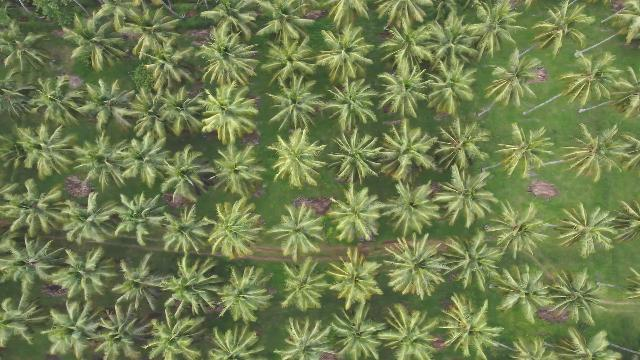trees: (559, 123, 640, 183), (379, 235, 450, 301), (433, 296, 505, 360), (433, 232, 507, 294), (62, 12, 134, 74), (481, 201, 555, 261), (537, 268, 611, 327), (9, 124, 84, 182), (199, 25, 264, 91), (432, 164, 499, 228), (549, 203, 625, 259), (157, 258, 226, 319), (556, 52, 628, 110), (482, 48, 547, 110), (376, 304, 447, 360), (199, 86, 264, 147), (71, 132, 139, 190), (55, 248, 123, 306), (117, 7, 187, 63), (377, 180, 443, 238), (41, 300, 107, 358), (490, 266, 558, 322), (376, 123, 441, 181), (532, 2, 598, 59), (263, 81, 329, 138), (324, 186, 386, 246), (327, 250, 387, 312), (259, 33, 322, 92), (88, 303, 153, 360), (314, 27, 374, 88), (206, 202, 268, 261), (268, 202, 329, 261), (467, 2, 528, 61), (215, 267, 277, 325), (63, 191, 127, 247), (268, 130, 329, 188), (113, 256, 174, 314), (76, 81, 142, 134), (495, 123, 557, 179), (327, 306, 391, 360), (327, 128, 387, 185), (423, 60, 480, 120), (320, 78, 380, 135), (149, 86, 212, 140), (142, 310, 210, 360), (208, 144, 267, 201), (378, 59, 434, 119), (120, 137, 181, 192), (427, 15, 485, 72), (157, 146, 215, 202), (159, 202, 218, 257), (433, 119, 493, 173), (277, 260, 334, 315), (114, 193, 173, 246), (3, 20, 56, 78), (377, 24, 437, 75), (254, 3, 320, 46), (276, 318, 337, 360), (204, 321, 265, 359), (551, 328, 621, 360), (377, 2, 434, 35)
